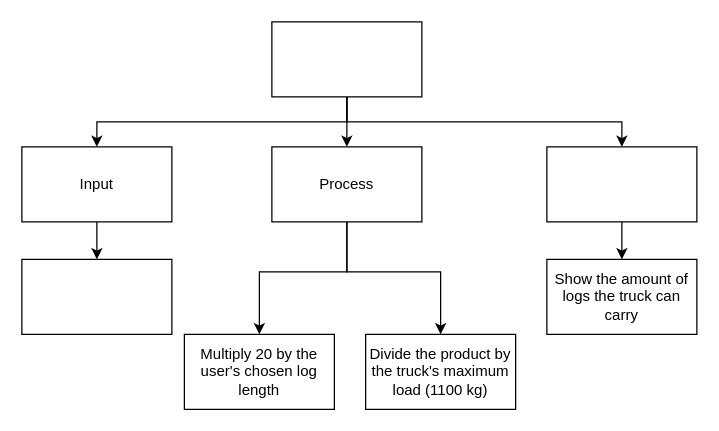
Some shapes in this 719 by 431 pixel diagram are drawn without their labels. The shapes that lost their labels are listed below. From the top down, each one's centre as x and y in pixels, then its label:
At (346,59): "Log Length Calculator".
At (621,184): "Output".
At (96,296): "Enter the log's length".
